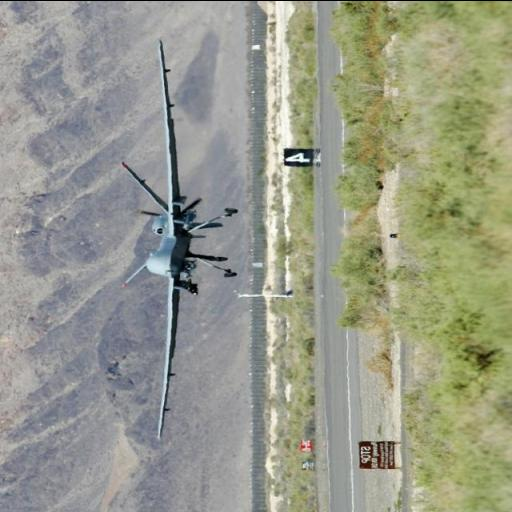uav: (118, 40, 236, 438)
